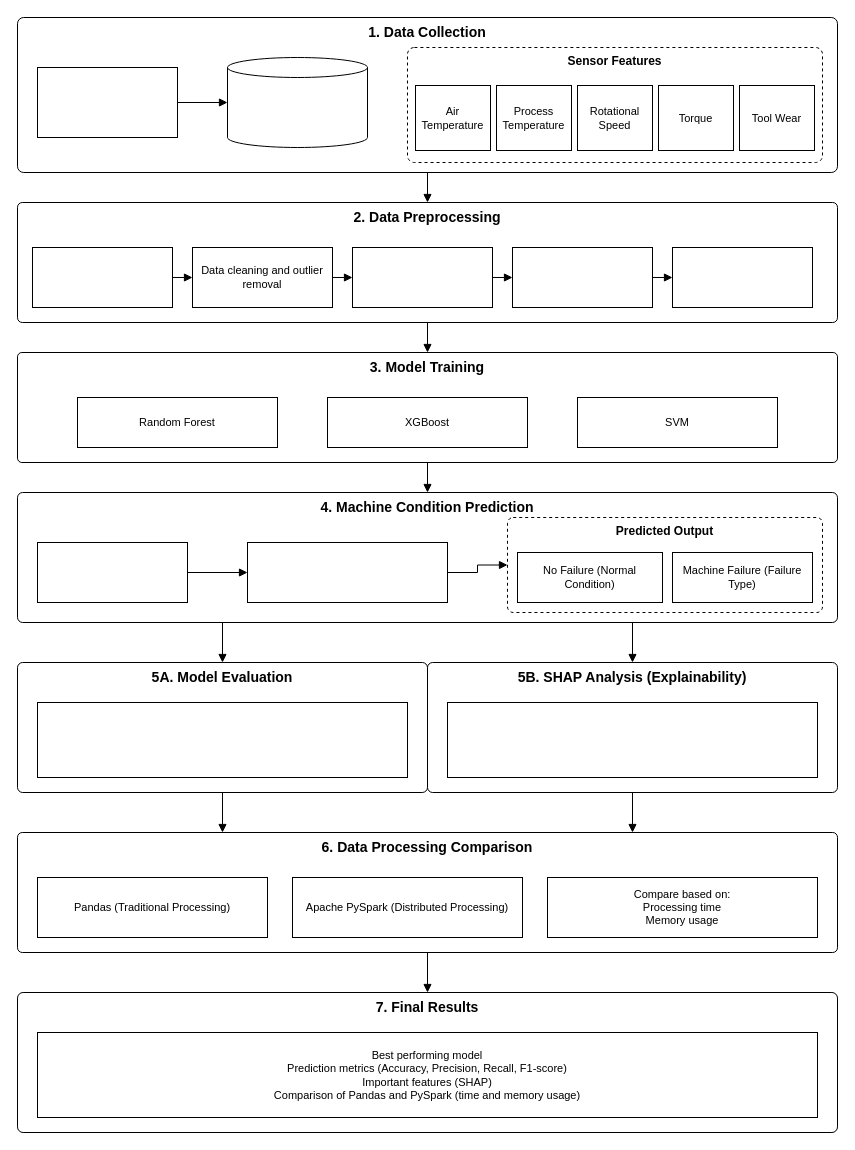
This 855x1150 diagram has some shape labels left out. The shapes that lost their labels are listed below. From the top down, each one's centre as x and y in pixels, then its label:
(107,102): Machine / Motor
(297,102): Machine Predictive Maintenance Dataset (Kaggle)
(102,277): Handle missing values
(422,277): Encode categorical labels
(582,277): Feature selection / scaling
(742,277): Prepare final dataset
(112,572): New / Test Sensor Data
(347,572): Trained Models (Random Forest / XGBoost / SVM)
(222,740): Accuracy Precision Recall F1-score
(632,740): Identify important features Understand feature influence on predictions
